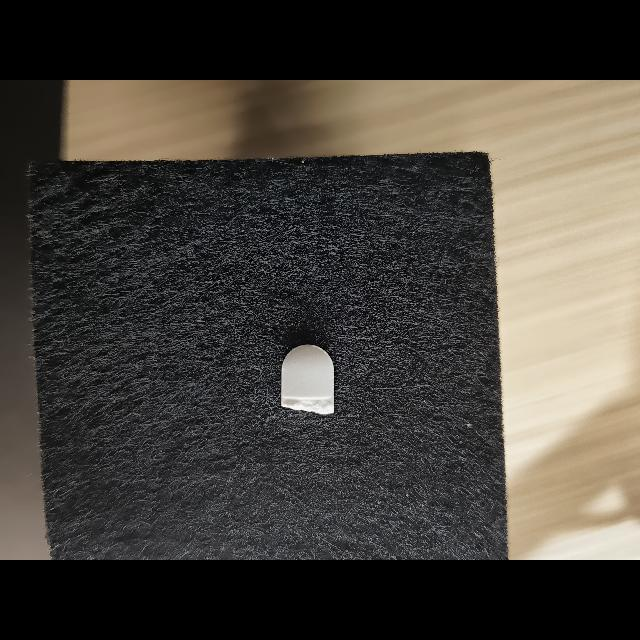Chipped Pill: (281, 345, 334, 414)
